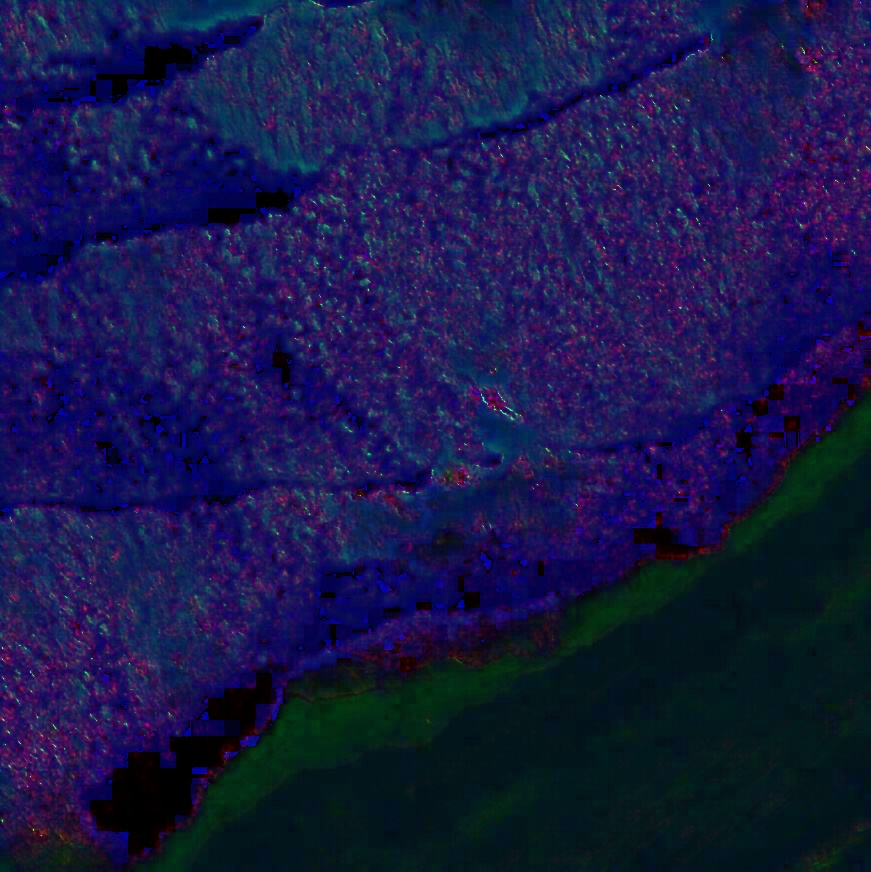rip_current: (331, 241, 608, 530)
